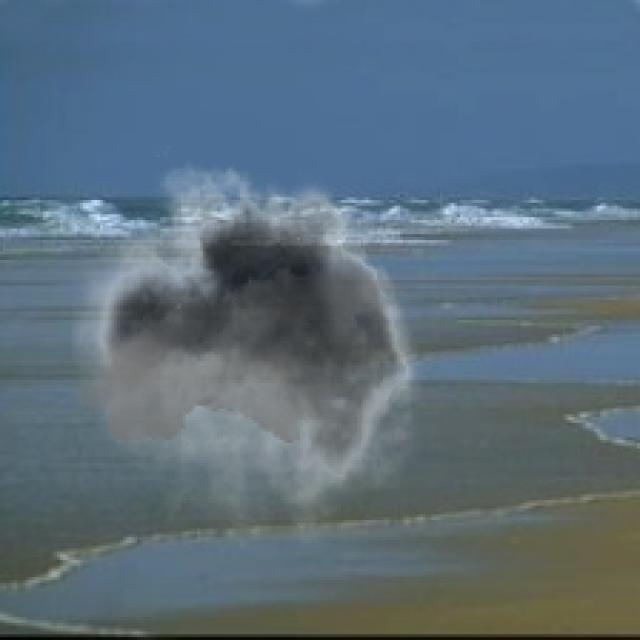Smoke: (72, 146, 437, 552)
